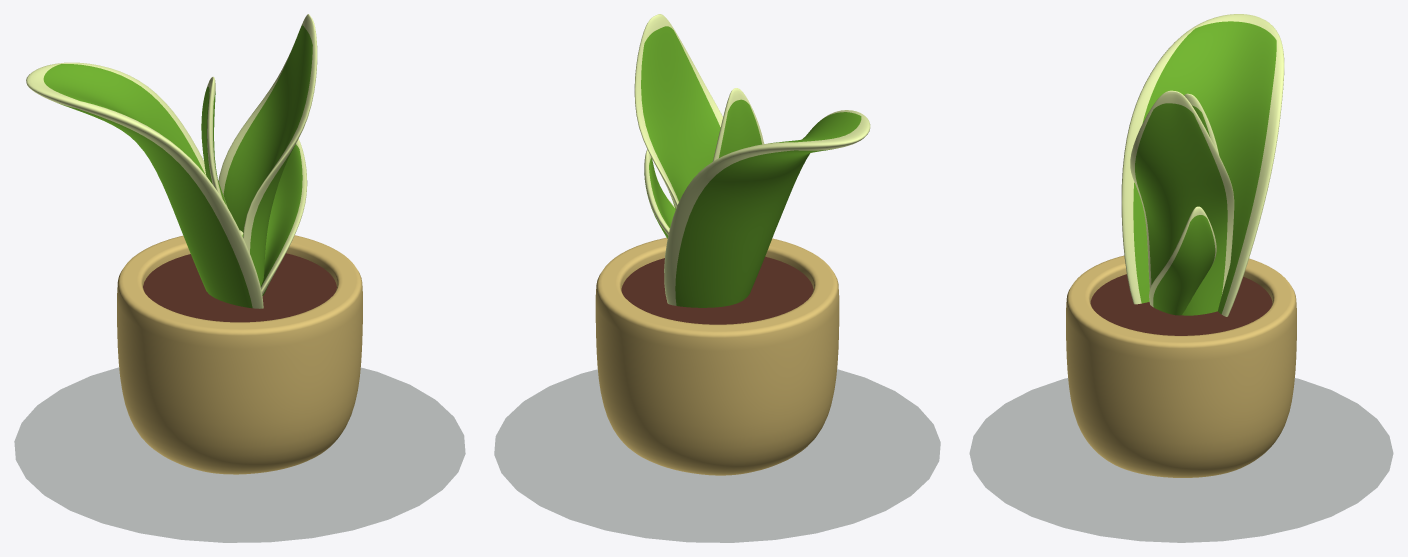
Rendered from plant.glb.
The picture shows the model from 3 angles, left to right: view 1: azimuth 30°, elevation 25°; view 2: azimuth 150°, elevation 25°; view 3: azimuth 270°, elevation 25°; orthographic projection. The views are drawn at different scales.
Visible parts, largest first — view 1: Circle_0, Cube_6, Plane.003_5, Plane.001_3, Cube.001_1, Plane.002_4, Plane_2; view 2: Circle_0, Cube_6, Plane.003_5, Plane.001_3, Cube.001_1, Plane_2, Plane.002_4; view 3: Circle_0, Cube_6, Plane.003_5, Plane.001_3, Cube.001_1, Plane.002_4.
Part boxes in pixels (x1=…): Circle_0: x1=14, y1=367, x2=465, y2=542; Cube_6: x1=117, y1=235, x2=362, y2=474; Plane.003_5: x1=26, y1=62, x2=263, y2=308; Plane.001_3: x1=218, y1=14, x2=317, y2=285; Cube.001_1: x1=143, y1=253, x2=336, y2=322; Plane.002_4: x1=240, y1=139, x2=307, y2=295; Plane_2: x1=201, y1=76, x2=227, y2=206; Circle_0: x1=494, y1=369, x2=940, y2=542; Cube_6: x1=595, y1=237, x2=839, y2=475; Plane.003_5: x1=664, y1=110, x2=870, y2=307; Plane.001_3: x1=634, y1=14, x2=722, y2=209; Cube.001_1: x1=621, y1=256, x2=813, y2=324; Plane_2: x1=712, y1=88, x2=764, y2=161; Plane.002_4: x1=644, y1=149, x2=675, y2=238; Circle_0: x1=969, y1=378, x2=1393, y2=542; Cube_6: x1=1066, y1=255, x2=1296, y2=477; Plane.003_5: x1=1121, y1=14, x2=1284, y2=316; Plane.001_3: x1=1130, y1=90, x2=1234, y2=315; Cube.001_1: x1=1090, y1=274, x2=1272, y2=335; Plane.002_4: x1=1149, y1=206, x2=1216, y2=315.
Size of the model in its own units: 2.44 by 2.5 by 2.44.
